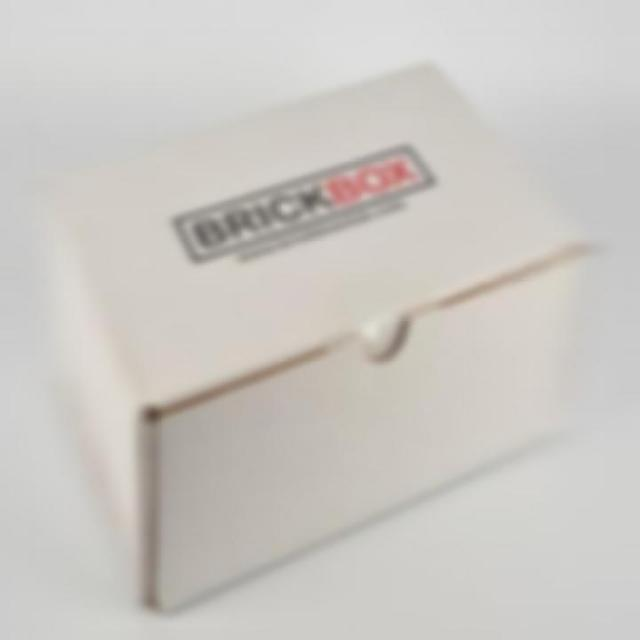box: (39, 61, 595, 620)
